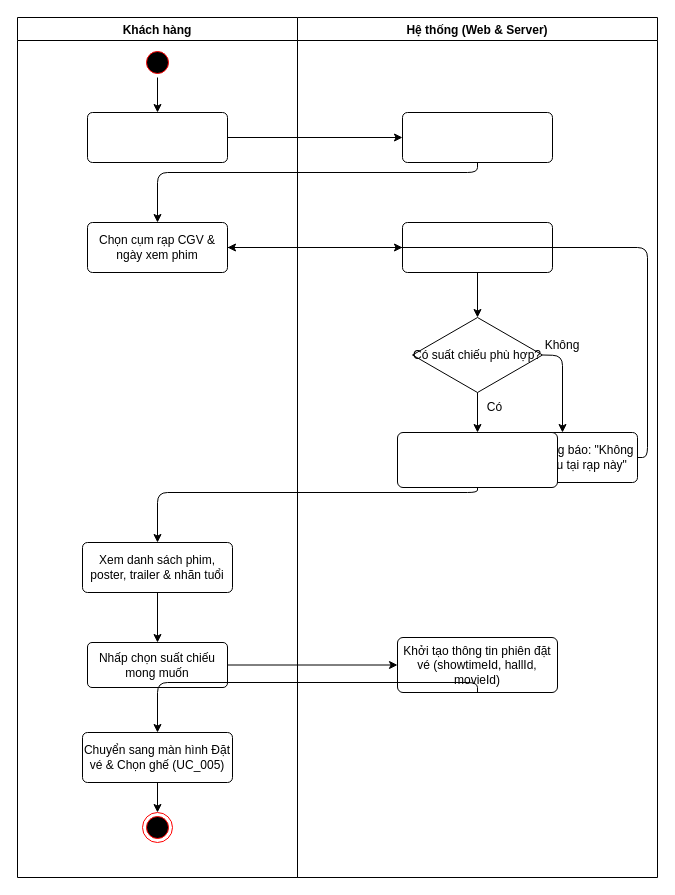
This 675x895 diagram has some shape labels left out. The shapes that lost their labels are listed below. From the top down, each one's centre as x and y in pixels, then its label:
the point at 157,137: Truy cập trang "Lịch chiếu" (/showtimes)
the point at 477,137: Tải và hiển thị danh sách các cụm rạp CGV
the point at 477,247: Truy vấn CSDL: movie, showtimes, hall, shown_in
the point at 477,460: Nhóm dữ liệu: Phim -> Ngày -> Phòng/Định dạng -> Giờ chiếu
